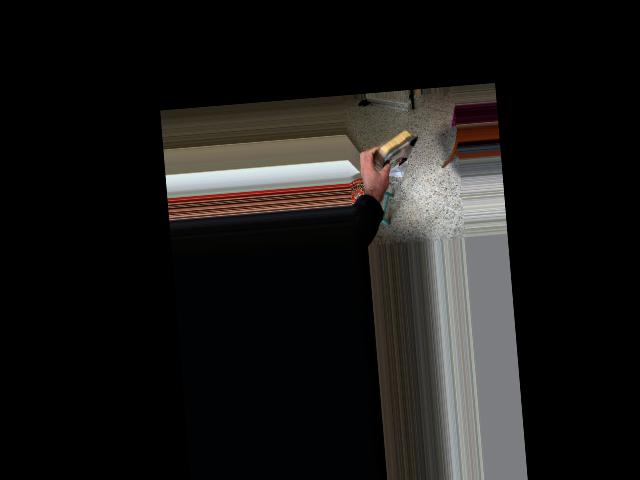cheese: (349, 119, 430, 185)
